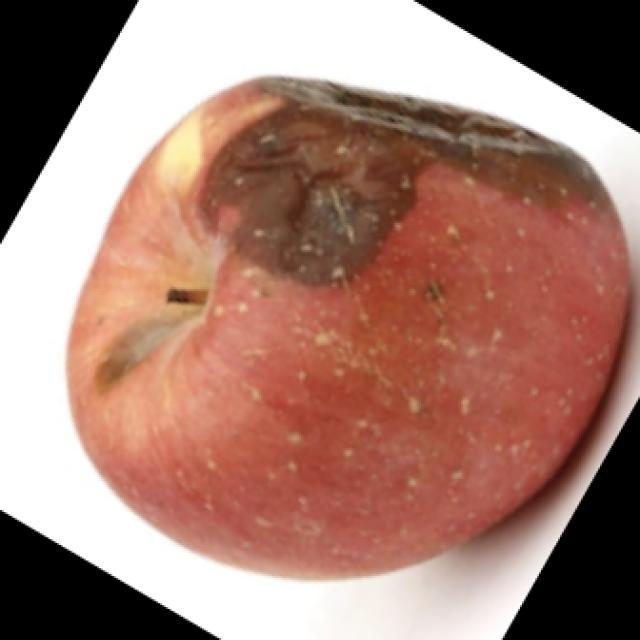Rotten: (92, 62, 633, 573)
